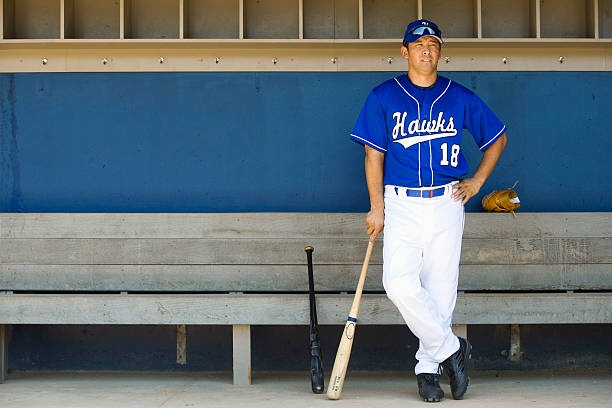bita: (327, 219, 383, 392), (303, 244, 328, 386)
